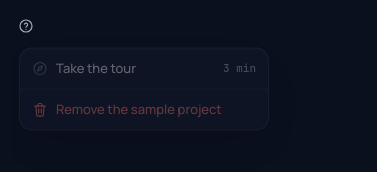
Test: Help (?) › while it's being made or removed: disabled, and it says so
What coordinates should you click on to do the following:
click the button named "Help"
I would click on:
 (26, 26)
Its box is x1=12 y1=12 x2=40 y2=40.
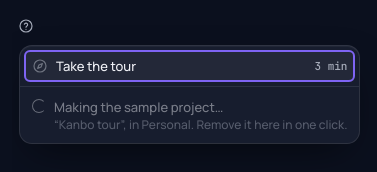
Expected: the menu item "Making the sample project" is disabled, x1=24 y1=91 x2=356 y2=139
